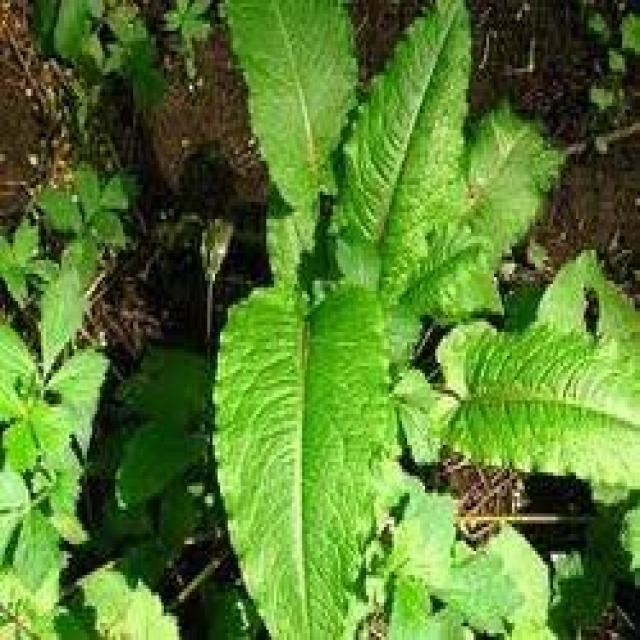organic waste: (148, 0, 640, 640)
